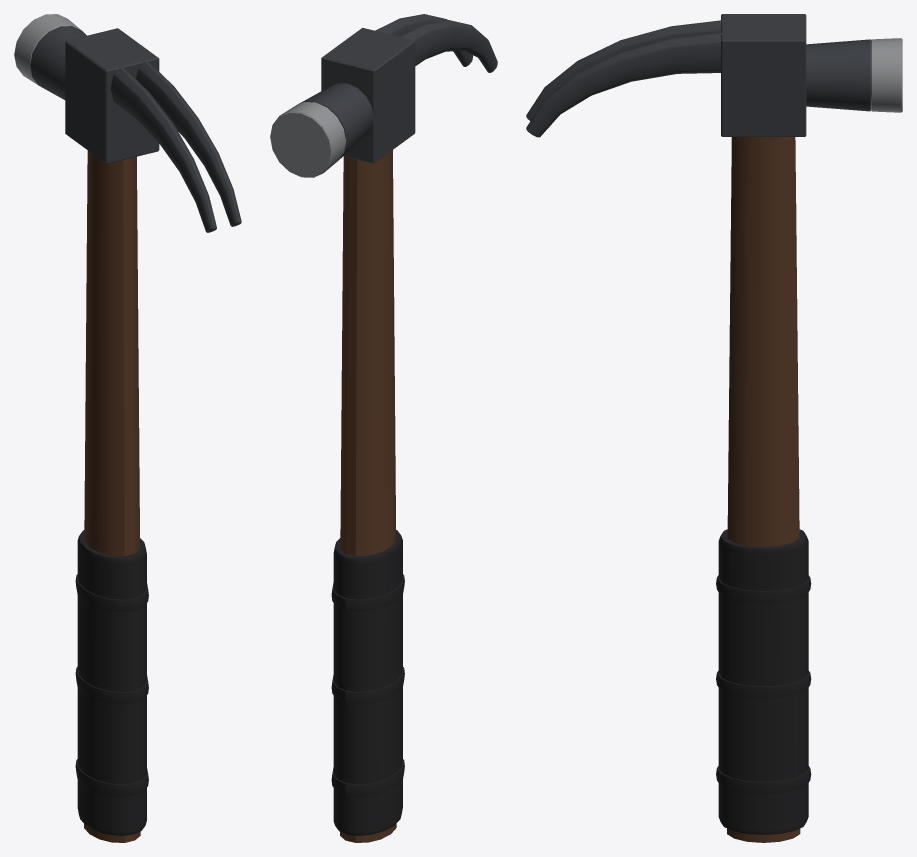
Rendered from wpn_melee_claw_hammer.glb.
The picture shows the model from 3 angles, left to right: view 1: azimuth 30°, elevation 25°; view 2: azimuth 150°, elevation 25°; view 3: azimuth 270°, elevation 25°; orthographic projection. The views are drawn at different scales.
Parts seen in each view (by area): view 1: Handle, Grip, Head; view 2: Handle, Grip, Head; view 3: Handle, Grip, Head.
Boxes of the visible parts, x1,y1,x2,y2 form: Handle: (84,150,140,842); Grip: (75,530,148,835); Head: (14,14,241,232); Handle: (340,150,396,842); Grip: (331,530,404,835); Head: (270,14,497,177); Handle: (727,137,800,842); Grip: (716,529,811,834); Head: (526,14,902,137).
Size of the model in its own units: 0.028 by 0.3321 by 0.1408.
